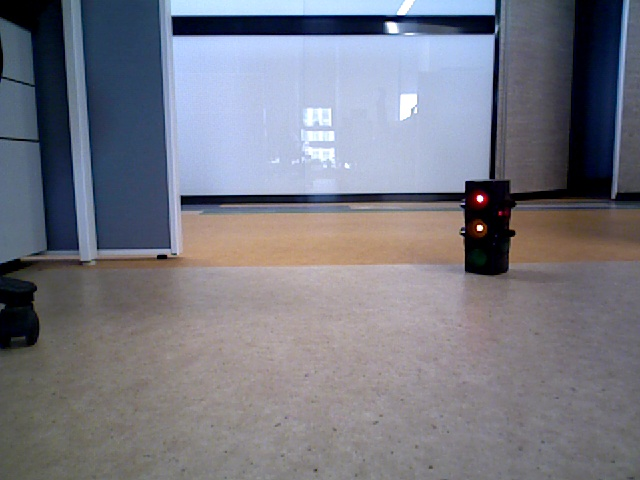red: (467, 182, 503, 268)
